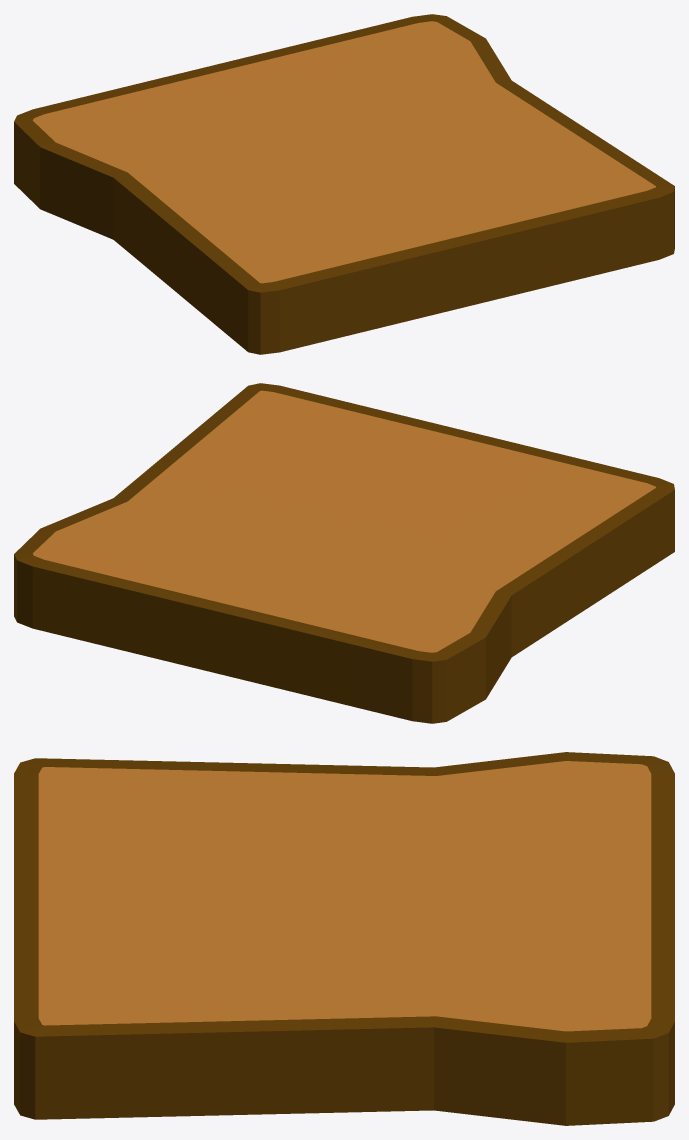
Rendered from C_Toast.fbx.
The picture shows the model from 3 angles, top to bottom: view 1: azimuth 30°, elevation 25°; view 2: azimuth 150°, elevation 25°; view 3: azimuth 270°, elevation 25°; orthographic projection. The views are drawn at different scales.
Visible parts, largest first — view 1: C_Toast; view 2: C_Toast; view 3: C_Toast.
Boxes of the visible parts, bbox=[...] form: C_Toast: bbox=[14, 14, 674, 354]; C_Toast: bbox=[14, 383, 674, 723]; C_Toast: bbox=[14, 752, 674, 1125].
Size of the model in its own units: 82.17 by 78.93 by 11.27.
